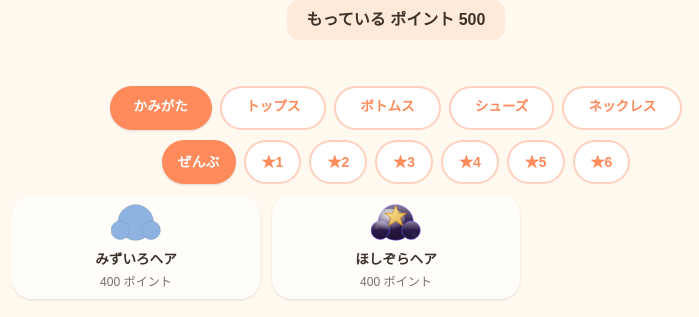
filters items by tier
Click the button "★1" at (272, 162), box [244,140,301,184]
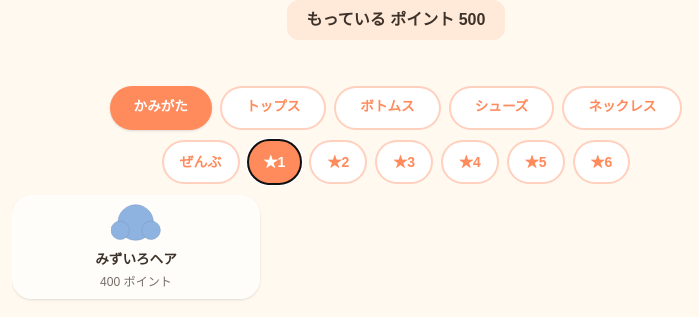
Check: the text "みずいろヘア" is shown, box [95,251,177,270]
Check: the button "ほしぞらヘア" is gone
